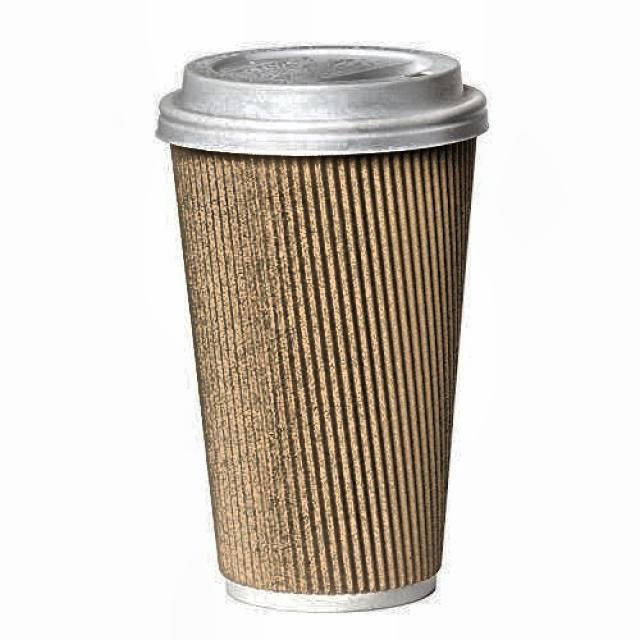Cup: (160, 43, 477, 618)
